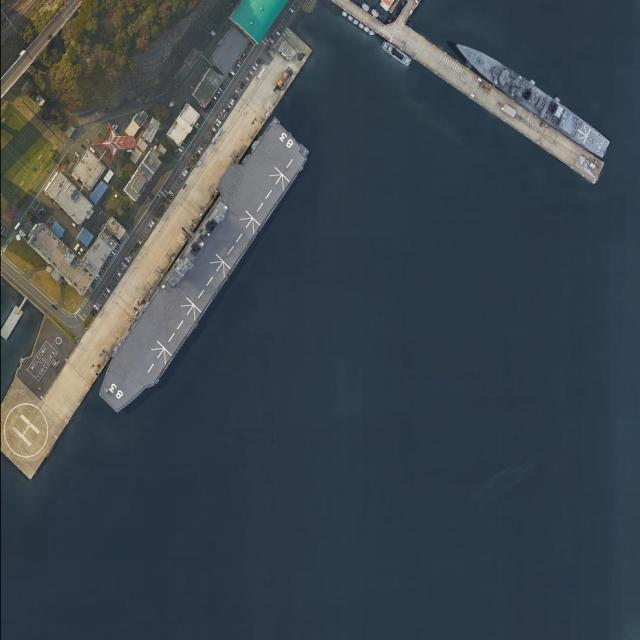Destroyer: (87, 120, 316, 422), (445, 32, 616, 160)
Dock: (392, 25, 608, 185)
